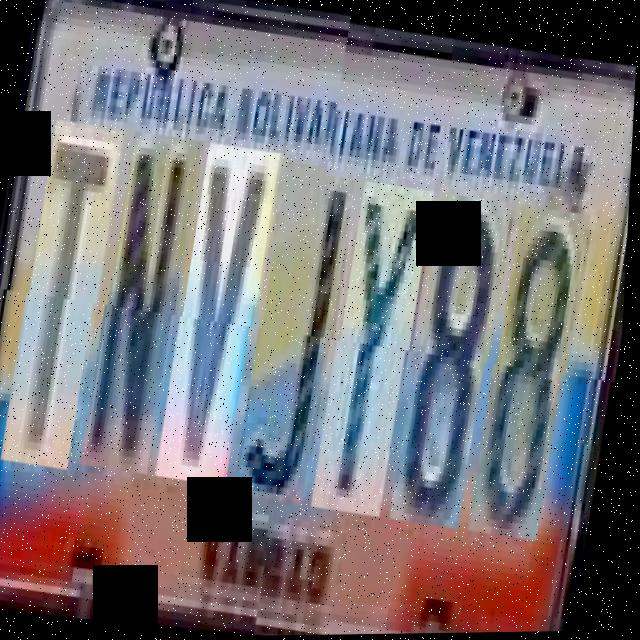8: (476, 198, 594, 537), (398, 187, 516, 525)
J: (240, 165, 358, 503)
N: (86, 137, 205, 481)
T: (7, 124, 127, 477)
V: (161, 147, 284, 492)
Y: (319, 176, 437, 514)
